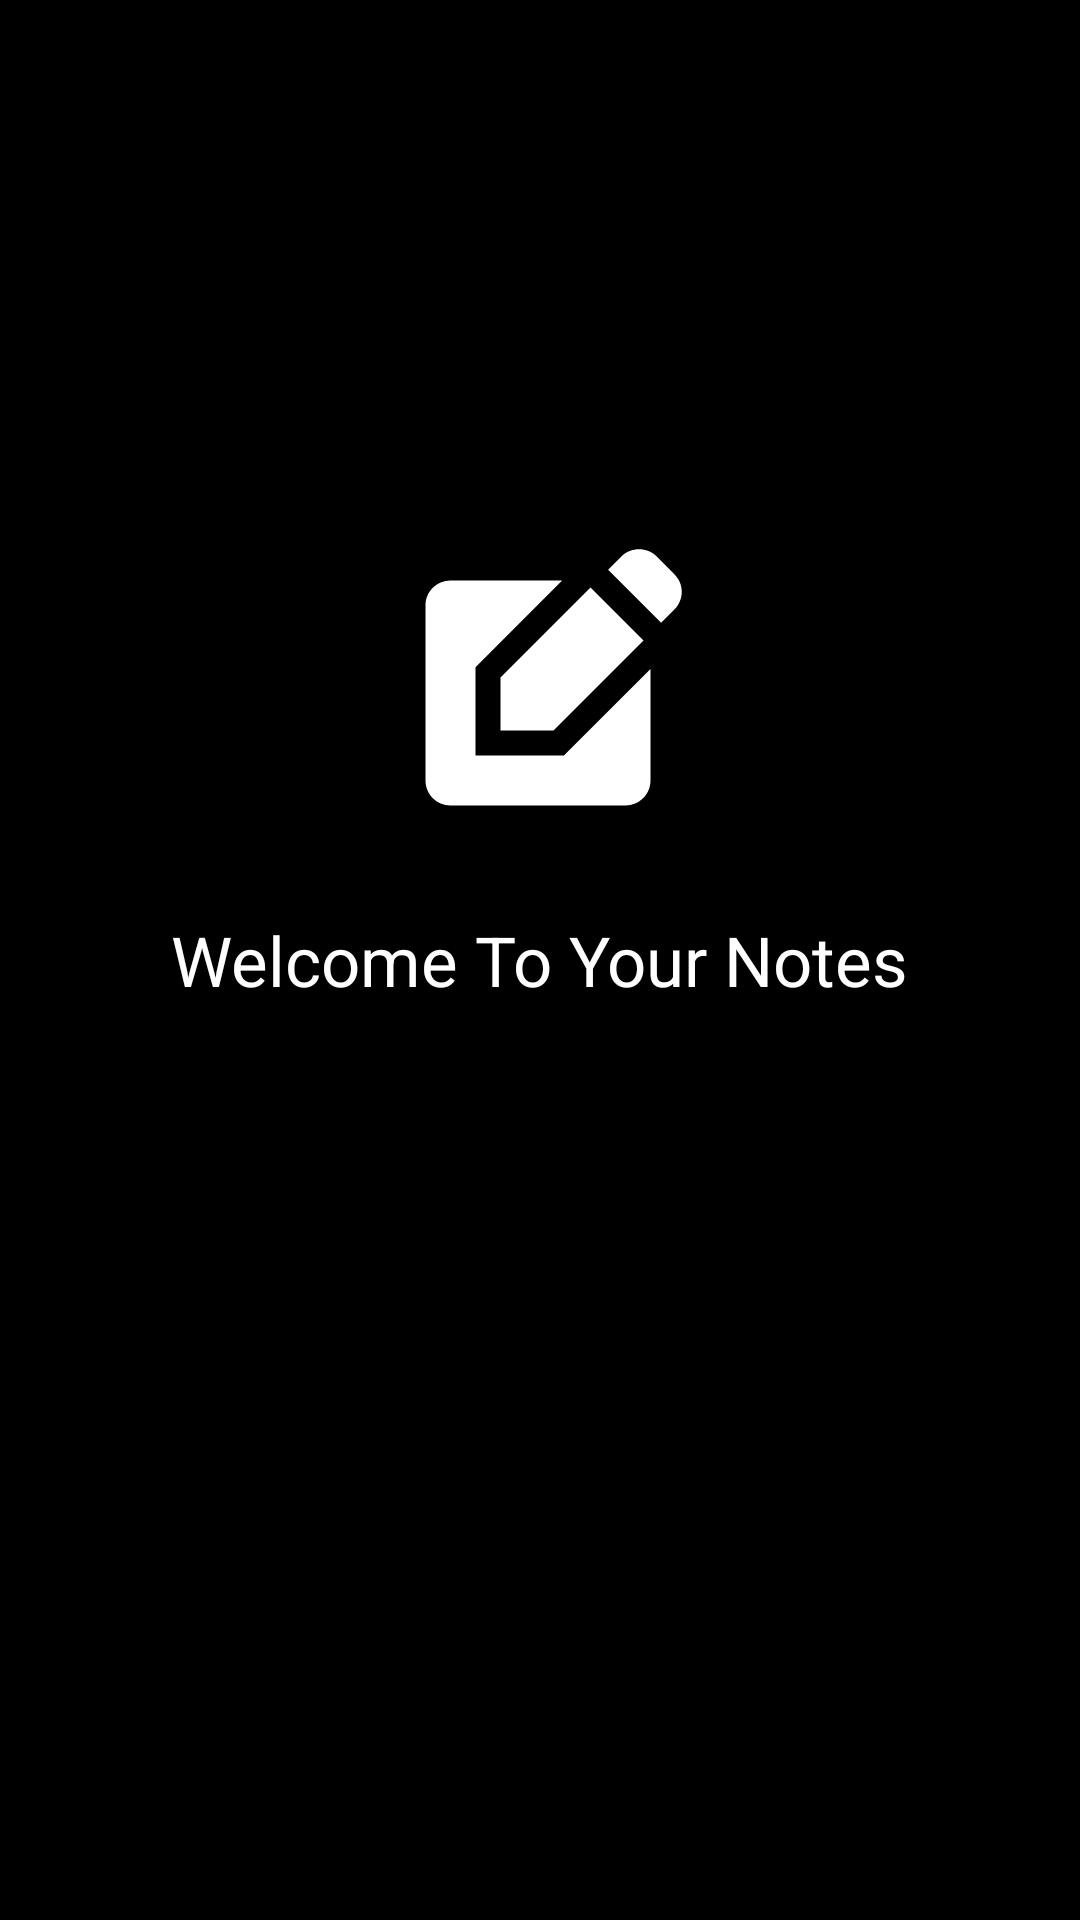

Screen size 1080 x 1920. Icon name, then its box in pixels as (x1, y1, x2, y2):
edit square: (425, 549, 682, 806)
